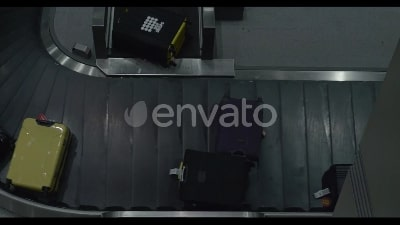baggage: (166, 148, 259, 207), (8, 113, 68, 198), (108, 7, 189, 67), (211, 91, 270, 160)
